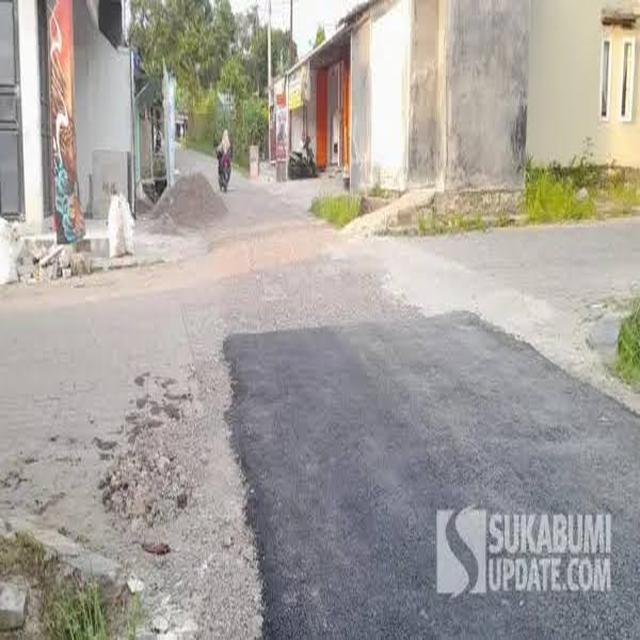Sambungan: (225, 312, 640, 640)
